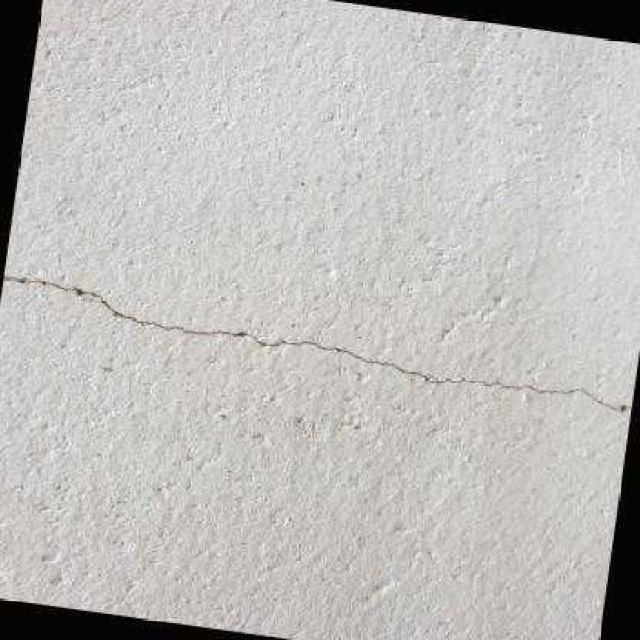D00: (5, 274, 631, 409)
